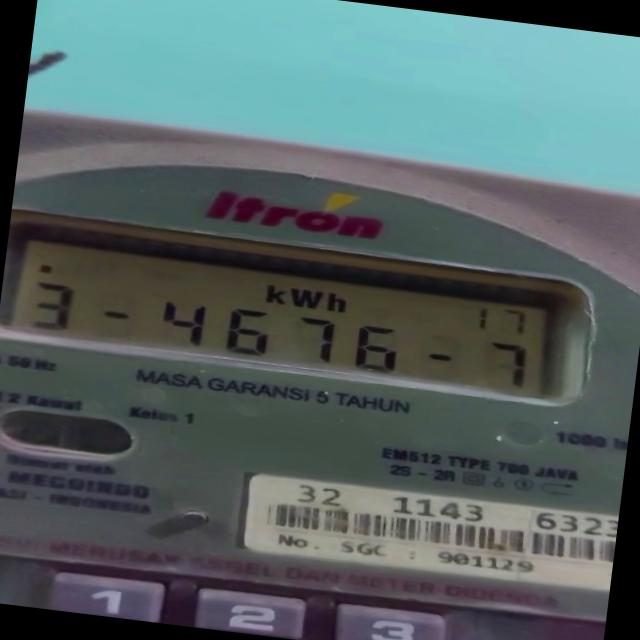LCD: (0, 205, 601, 410)
